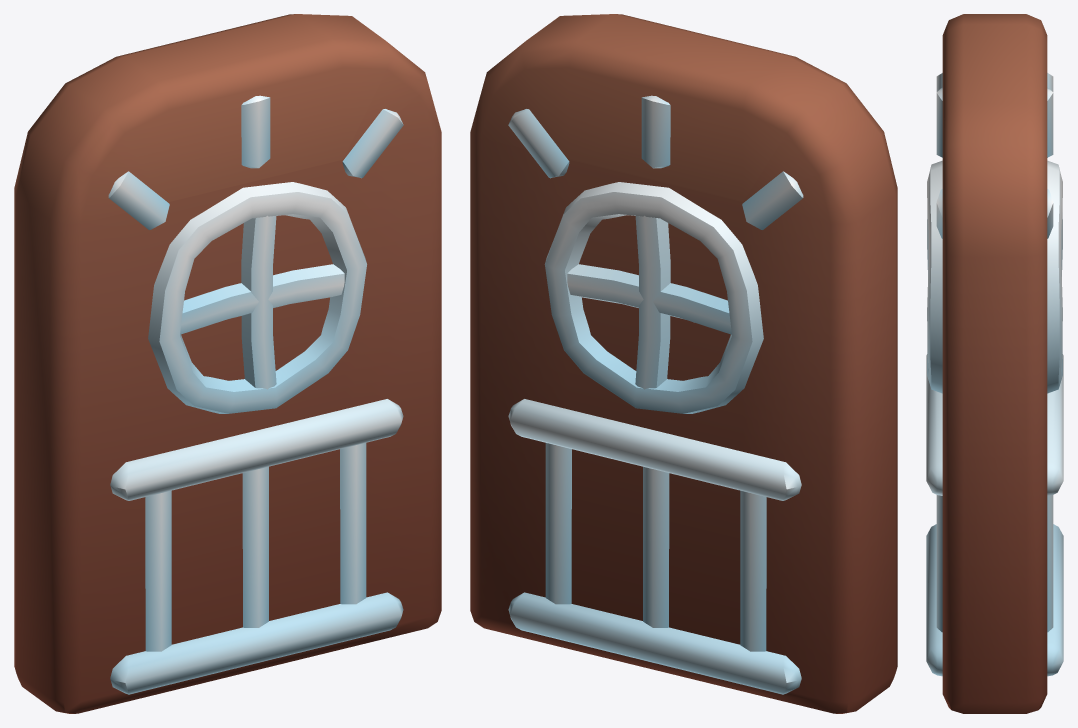
The model's file is door_gingerbread.fbx.
The picture shows the model from 3 angles, left to right: view 1: azimuth 30°, elevation 25°; view 2: azimuth 150°, elevation 25°; view 3: azimuth 270°, elevation 25°; orthographic projection. The views are drawn at different scales.
Parts seen in each view (by area): view 1: door_gingerbread; view 2: door_gingerbread; view 3: door_gingerbread.
Part boxes in pixels (x1,y1,x2,y2): door_gingerbread: (14, 14, 441, 713); door_gingerbread: (470, 14, 897, 713); door_gingerbread: (926, 14, 1063, 713).
Bounding box in the file's own units: 2 × 3 × 0.655.
